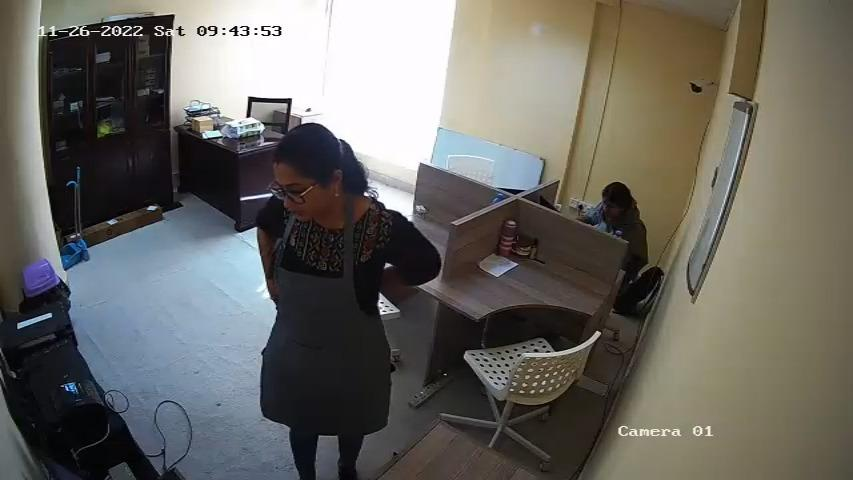apron: (266, 222, 376, 430)
